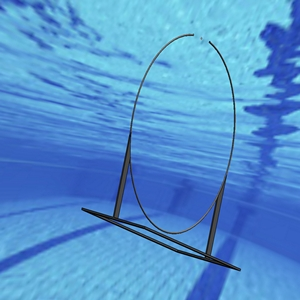circle: (79, 30, 237, 270)
